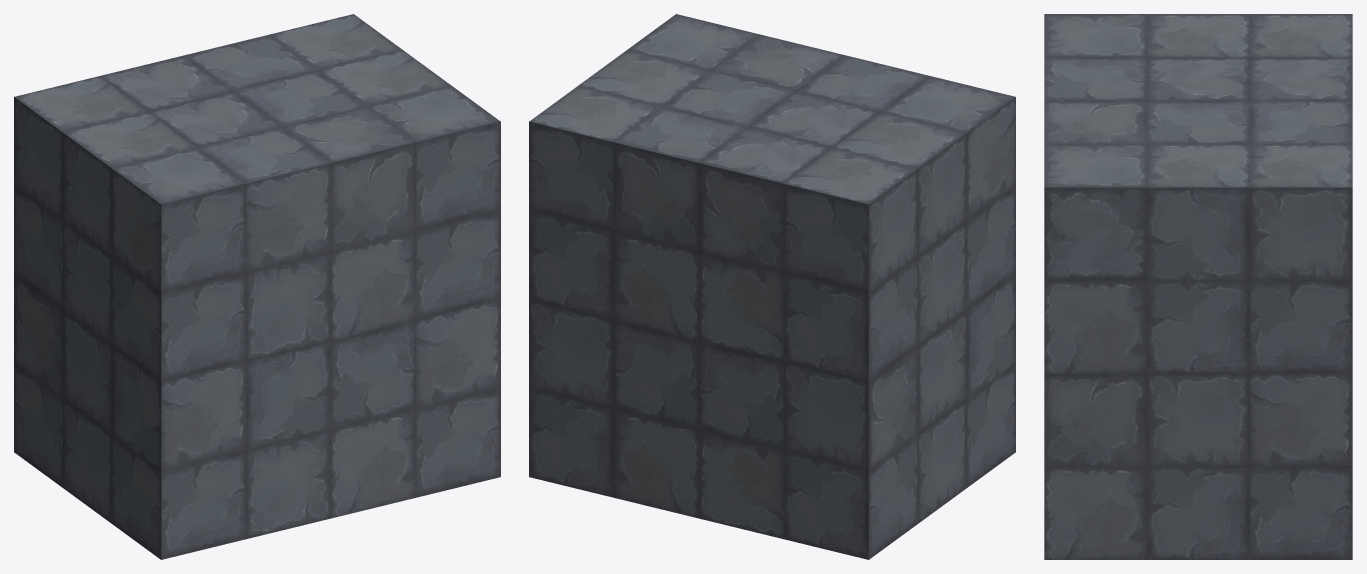
File: Castle Block 4x3x4.fbx
3 renders of one model, left to right at view 1: azimuth 30°, elevation 25°; view 2: azimuth 150°, elevation 25°; view 3: azimuth 270°, elevation 25°, orthographic. The views are drawn at different scales.
Parts seen in each view (by area): view 1: Castle Block 4x3x4; view 2: Castle Block 4x3x4; view 3: Castle Block 4x3x4.
Boxes of the visible parts, bbox=[...] form: Castle Block 4x3x4: bbox=[14, 14, 500, 559]; Castle Block 4x3x4: bbox=[529, 14, 1015, 559]; Castle Block 4x3x4: bbox=[1044, 14, 1352, 559].
Size of the model in its own units: 3 by 3 by 2.25.
